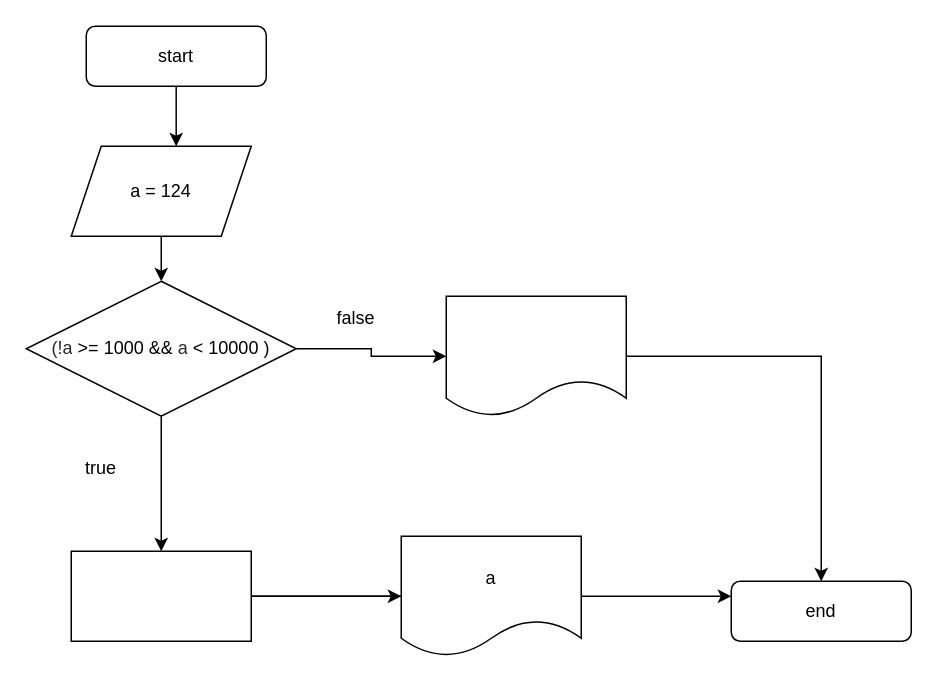
Image size: 938x683. Some labels were removed from this diagram. The shapes that lost their labels are listed below. From the top down, each one's box as (x1, y1, x2, y2) in pixels, then its label:
(445, 295, 626, 416): { a }-dord reqemli deyil
(70, 550, 251, 641): a = a + 70000 a = a * 10 + 8
